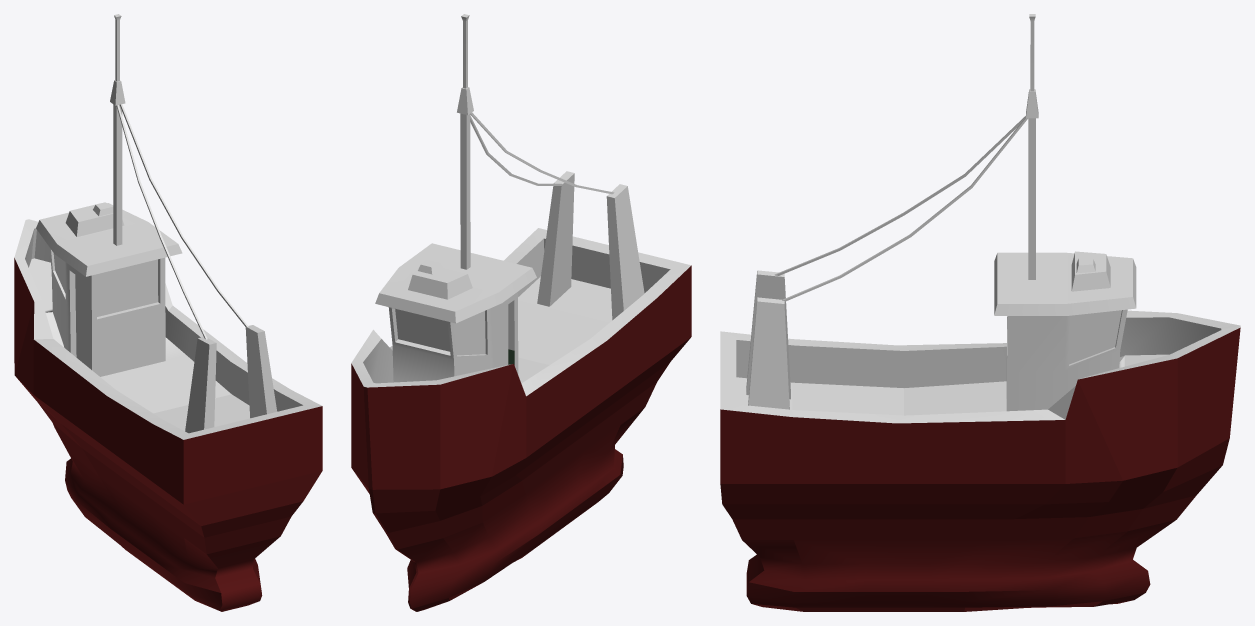
The model's file is BootFBX.fbx.
The picture shows the model from 3 angles, left to right: view 1: azimuth 30°, elevation 25°; view 2: azimuth 150°, elevation 25°; view 3: azimuth 270°, elevation 25°; orthographic projection. The views are drawn at different scales.
Visible parts, largest first — view 1: pCube9; view 2: pCube9; view 3: pCube9.
Boxes of the visible parts, x1,y1,x2,y2 form: pCube9: (14, 14, 322, 611); pCube9: (351, 14, 691, 611); pCube9: (720, 14, 1240, 611).
Bounding box in the file's own units: 1.67 × 5.88 × 4.71.
